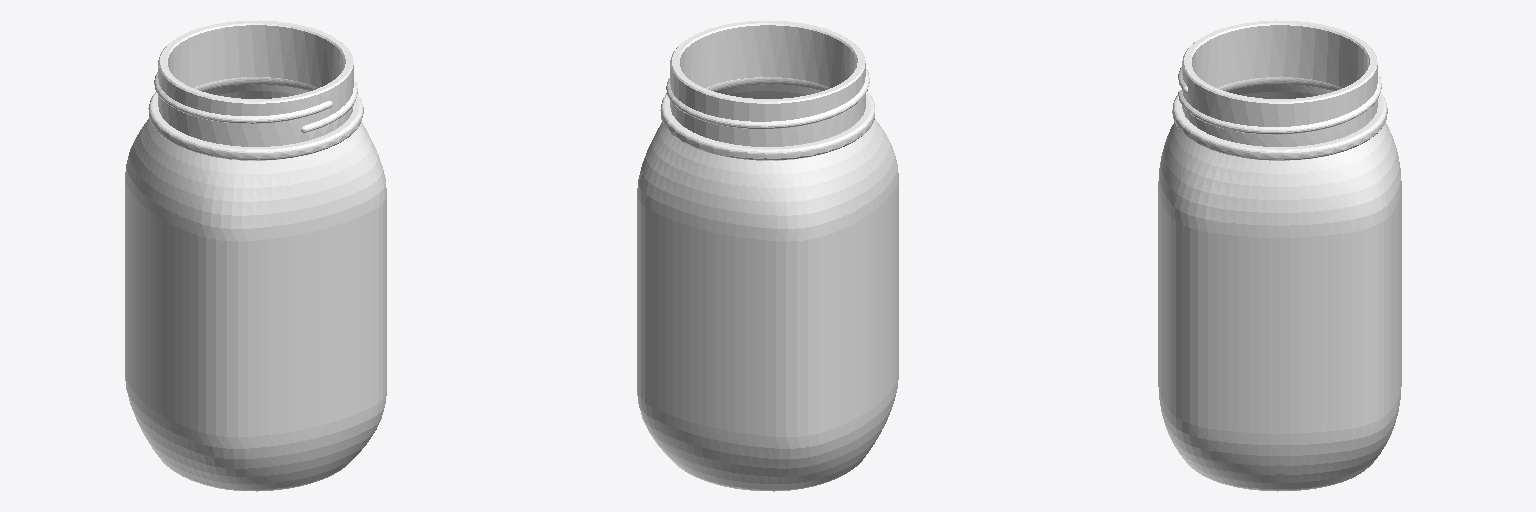
URDF robot description (jar.urdf):
<?xml version="1.0" ?>
<robot name="jar.urdf">
  <link name="baseLink">
    <inertial>
      <origin rpy="0 0 0" xyz="0 0 0"/>
       <mass value="0.5"/>
       <inertia ixx="0" ixy="0" ixz="0" iyy="0" iyz="0" izz="0"/>
    </inertial>
    <visual>
      <origin rpy="3.14159265 0 0" xyz="0 0 0"/>
      <geometry>
        <mesh filename="jar.obj" scale="1.0 1.0 1.0"/>
      </geometry>
      <material name="white">
       <color rgba="1 1 1 0.3"/>
     </material>
    </visual>
    <collision>
      <origin rpy="3.14159265 0 0" xyz="0 0 0"/>
      <geometry>
        <mesh filename="jar.obj" scale="1.0 1.0 1.0"/>
        <!-- You could also specify the collision (for the jar) with a "box" tag: -->
        <!-- <box size=".06 .06 .06"/> -->
      </geometry>
    </collision>
  </link>
</robot>
        

--- Facts derived from the render (not from the file) ---
Views: 3 orthographic renders of the robot side by side, from view 1: azimuth 30°, elevation 25°; view 2: azimuth 150°, elevation 25°; view 3: azimuth 270°, elevation 25°.
Robot: jar.urdf — 1 links, 0 joints (none); root link baseLink; default pose: all joints at 0.
Links seen in each view (by area): view 1: baseLink; view 2: baseLink; view 3: baseLink.
Boxes of the visible links, x1,y1,x2,y2 form: baseLink: [125, 20, 386, 491]; baseLink: [637, 20, 898, 491]; baseLink: [1158, 20, 1401, 491].
Bounding box of the posed robot: 78.99 × 78.99 × 140 m (x, y, z).
1 mesh visuals loaded from 1 distinct referenced files (1 OBJ).
